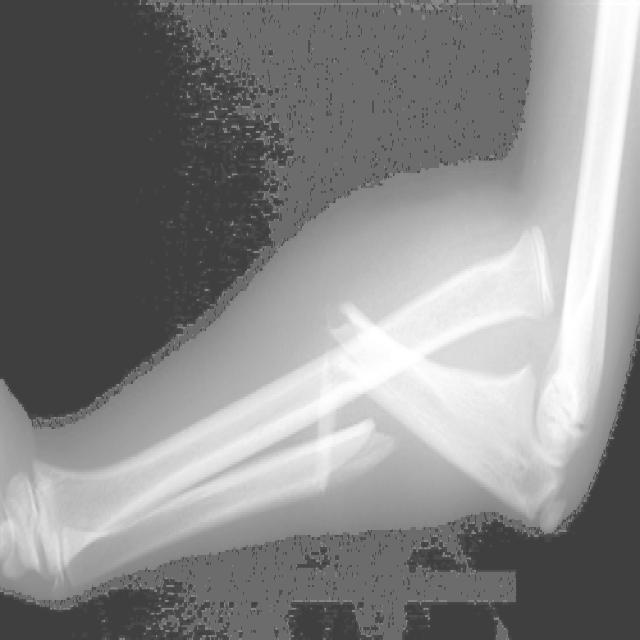Fracture Dislocation: (485, 226, 592, 514), (312, 302, 413, 473)
